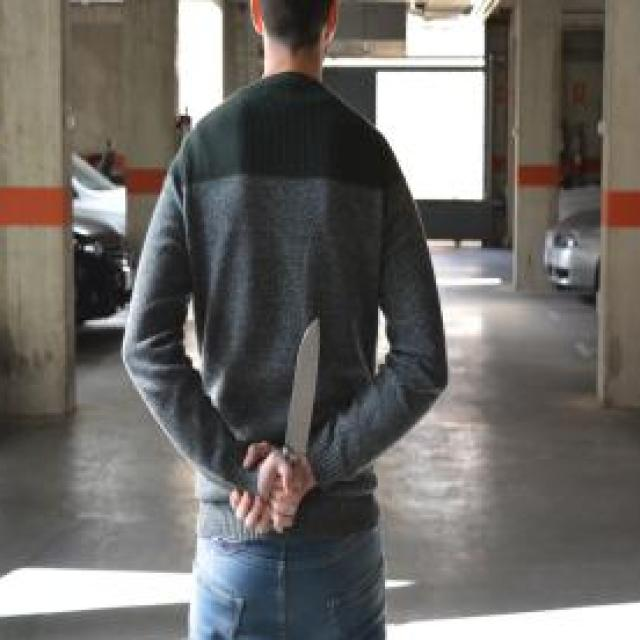knife: (269, 308, 325, 534)
